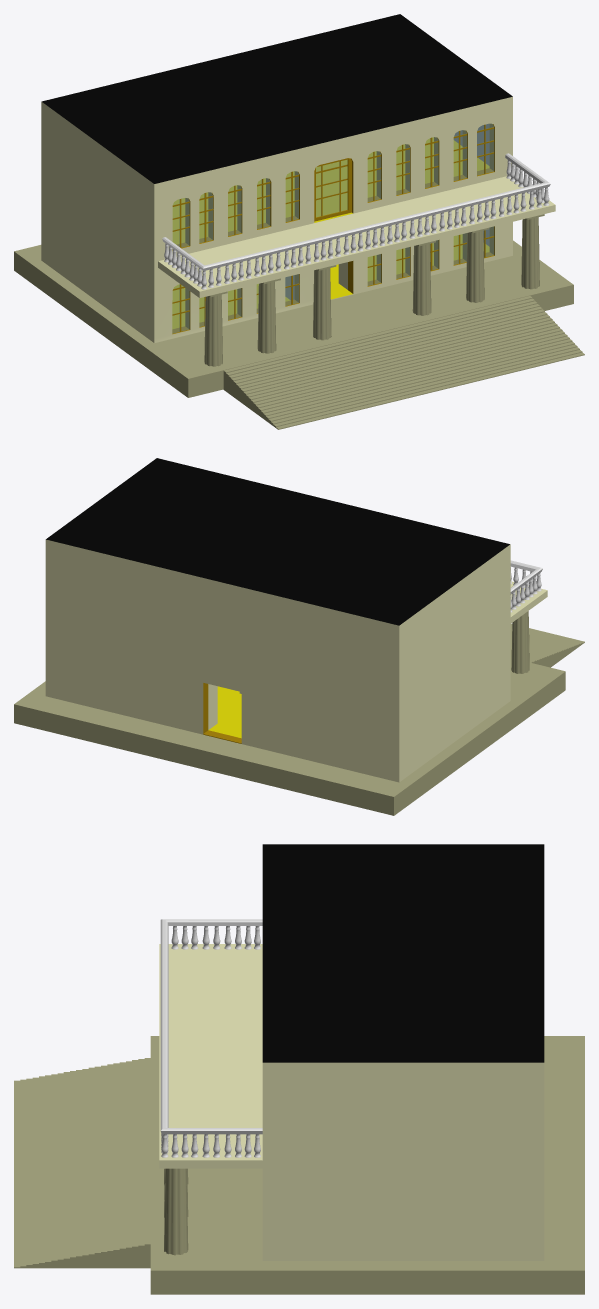
Rendered from MuseumNes.fbx.
The picture shows the model from 3 angles, top to bottom: view 1: azimuth 30°, elevation 25°; view 2: azimuth 150°, elevation 25°; view 3: azimuth 270°, elevation 25°; orthographic projection. The views are drawn at different scales.
Visible parts, largest first — view 1: Museum1, Stairs, Fundation, Balcon, Colon, Window19, Window21, Window3, Window8, Window20, Window16, Window18 (+7 smaller); view 2: Museum1, Fundation, Stairs, Balcon, Colon; view 3: Museum1, Fundation, Stairs, Balcon, Colon.
Boxes of the visible parts, <box> form: Museum1: <box>41,14,555,342</box>; Stairs: <box>223,296,584,429</box>; Fundation: <box>14,240,573,397</box>; Balcon: <box>162,153,550,289</box>; Colon: <box>204,214,544,366</box>; Window19: <box>477,123,494,175</box>; Window21: <box>331,160,347,213</box>; Window3: <box>172,198,189,249</box>; Window8: <box>172,284,189,333</box>; Window20: <box>316,163,331,217</box>; Window16: <box>367,151,381,201</box>; Window18: <box>453,130,467,180</box>; Museum1: <box>45,458,547,782</box>; Fundation: <box>14,658,565,815</box>; Stairs: <box>510,623,584,667</box>; Balcon: <box>510,560,542,612</box>; Colon: <box>511,611,529,673</box>; Museum1: <box>159,844,544,1260</box>; Fundation: <box>150,1036,584,1294</box>; Stairs: <box>14,1058,150,1268</box>; Balcon: <box>160,919,262,1157</box>; Colon: <box>164,1168,188,1255</box>.
Size of the model in its own units: 0.2099 by 0.0929 by 0.216.
